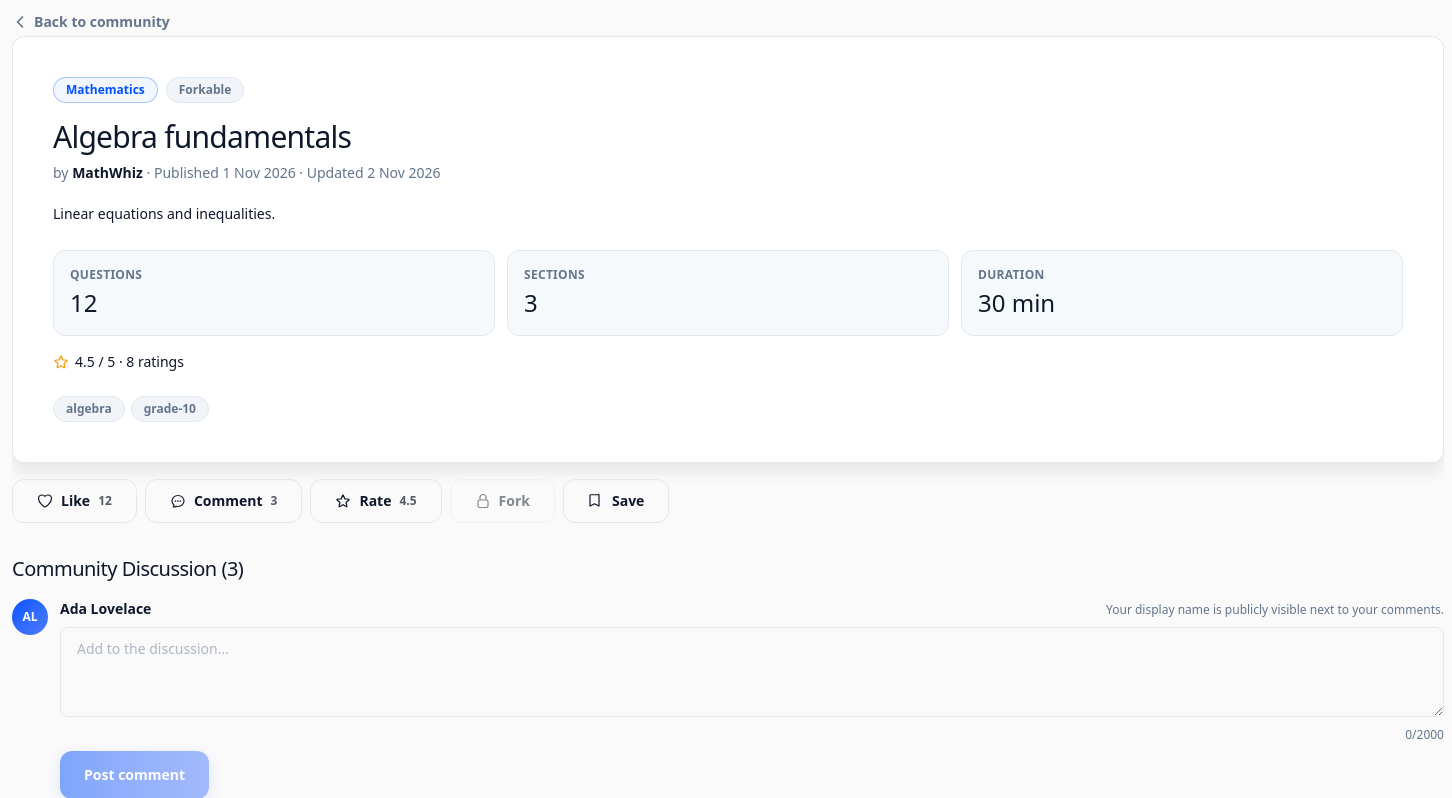
community publication detail page — save/unsave toggle (#46) › surfaces 'no longer available' when the save hits a 404 (§4 predicate)
Click the button "Save": (616, 501) [563,479,669,523]
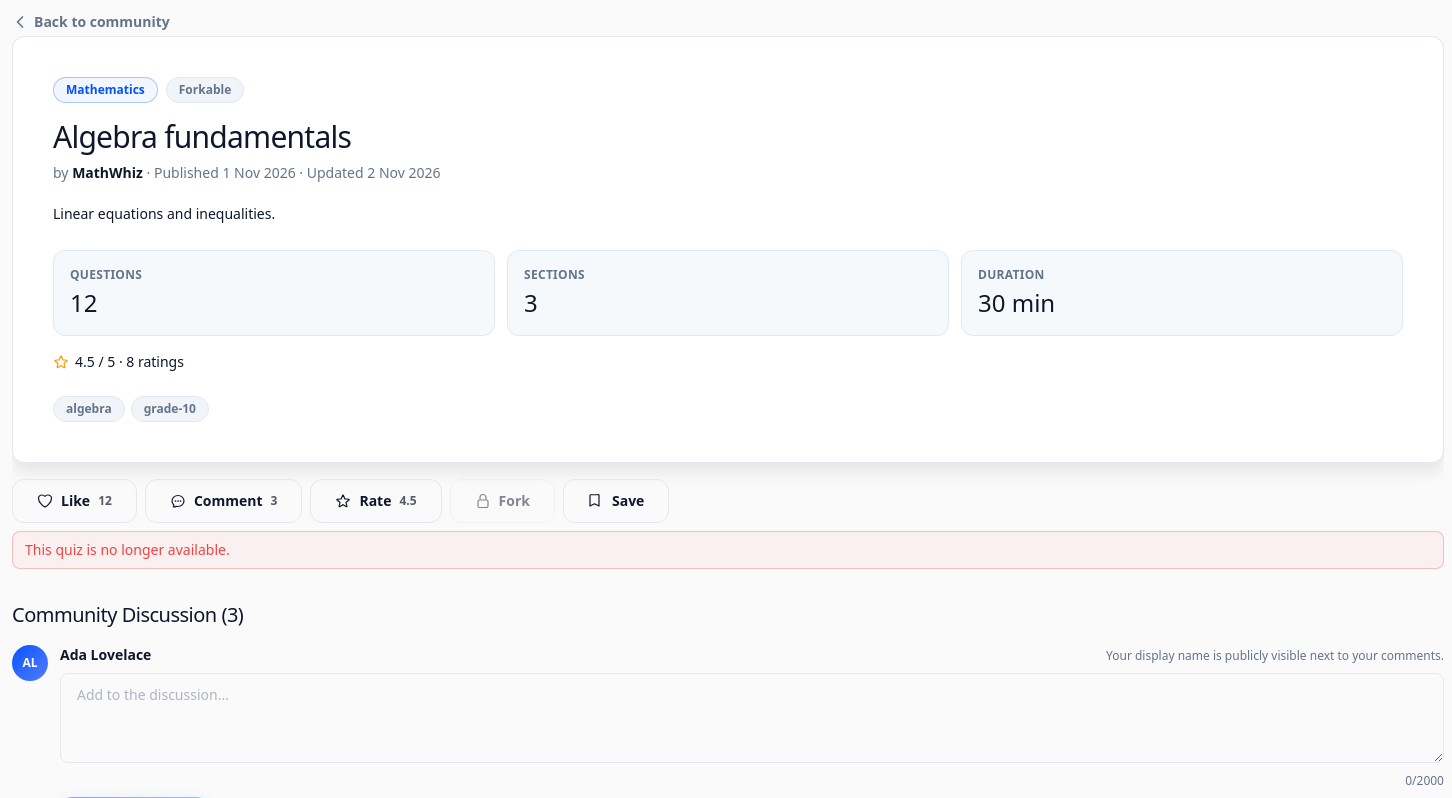
Check: the message shows "no longer available", box [25,540,230,559]
